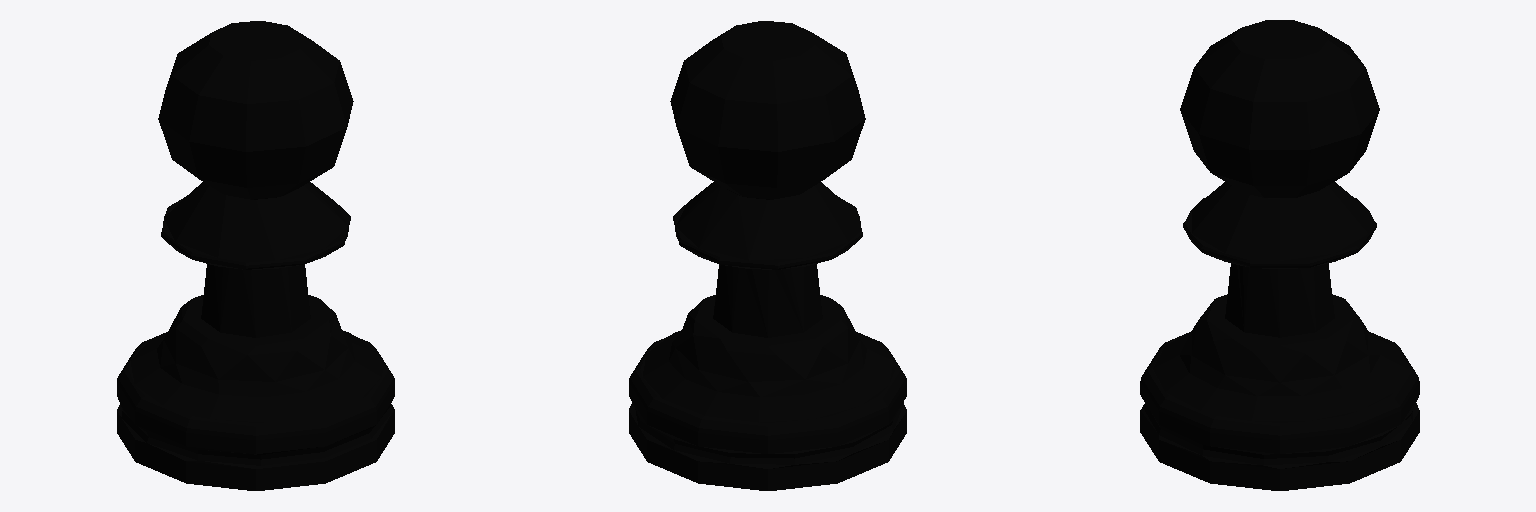
URDF robot description (pawn):
<?xml version="1.0" ?>
<robot name="pawn">

  <link name="pawn__link_0">
    <inertial>
      <mass value="0.002"/>
      <origin rpy="0  0  0" xyz="0  0  0"/>
      <inertia ixx="0.145833" ixy="0" ixz="0" iyy="0.145833" iyz="0" izz="0.125"/>
    </inertial>
    
    <collision name="pawn__collision">
      <origin rpy="1.570795  0  0" xyz="0  0  0"/>
      <geometry>
        <mesh filename="package://chessRobot/models/pieces/pawn/blackPawn.dae" scale="0.01 0.01 0.01"/>
      </geometry>
    <mu1 value="1.0"/>
    <mu2 value="1.0"/>
    <kp  value="10000000.0" />
    <kd  value="1.0" />
    <minDepth>0.002</minDepth>
    <maxVel>0</maxVel>  
    <dynamics damping="0.7" friction="1000" />
    </collision>
    
    <visual name="pawn__visual">
      <origin rpy="1.570795  0  0" xyz="0  0  0"/>
      <geometry>
        <mesh filename="package://chessRobot/models/pieces/pawn/blackPawn.dae" scale="0.01 0.01 0.01"/>
      </geometry>
    </visual>
  </link>
</robot>

--- Facts derived from the render (not from the file) ---
The picture shows the robot from 3 angles, left to right: view 1: azimuth 30°, elevation 25°; view 2: azimuth 150°, elevation 25°; view 3: azimuth 270°, elevation 25°; orthographic projection.
Model pawn with 1 links and 0 joints (none), rooted at pawn__link_0, posed every joint at zero.
Links seen in each view (by area): view 1: pawn__link_0; view 2: pawn__link_0; view 3: pawn__link_0.
Link boxes in pixels (x1,y1,x2,y2): pawn__link_0: (117, 21, 394, 490); pawn__link_0: (629, 21, 906, 490); pawn__link_0: (1140, 20, 1419, 490).
Bounding box of the posed robot: 0.03 × 0.03 × 0.047 m (x, y, z).
Meshes: 1 distinct files referenced, 1 mesh visuals loaded (1 Collada DAE).
